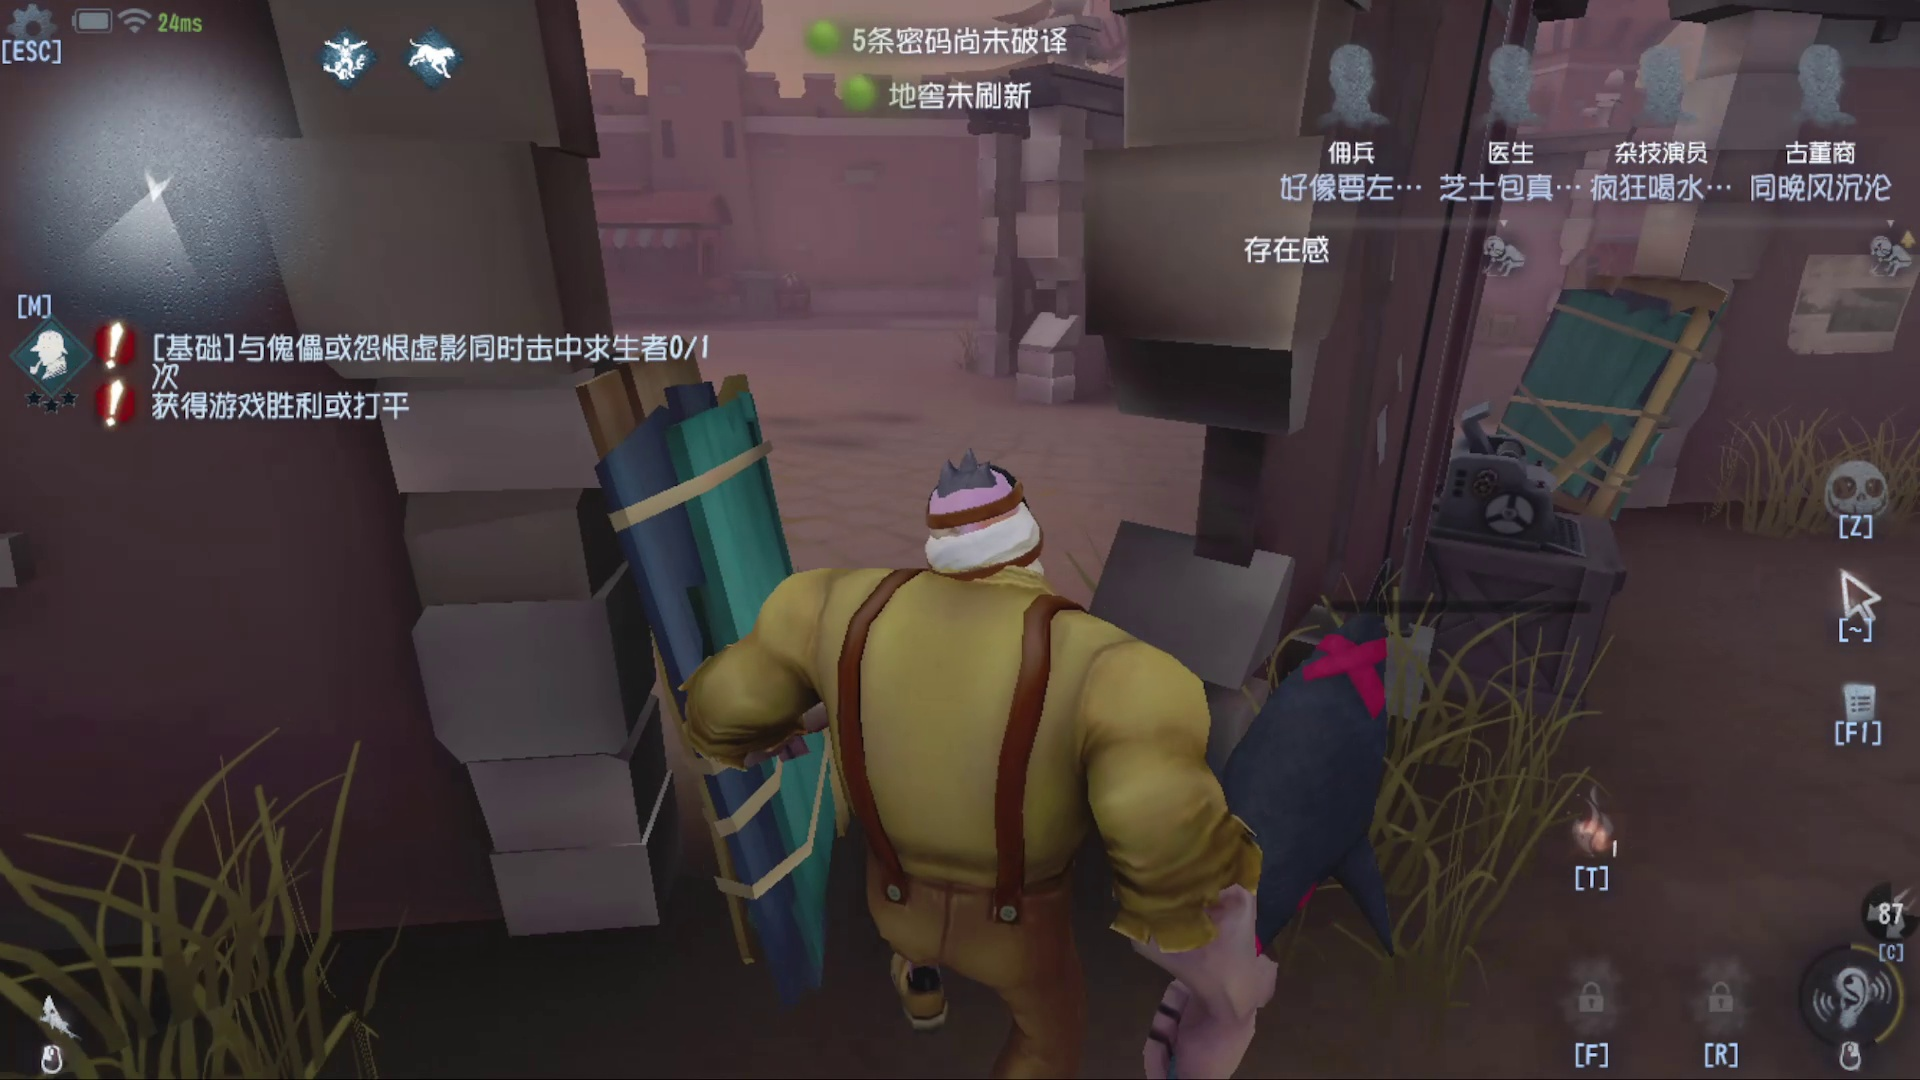密码机: (1394, 367, 1633, 744)
木板: (575, 291, 847, 1004), (1502, 255, 1722, 458)
